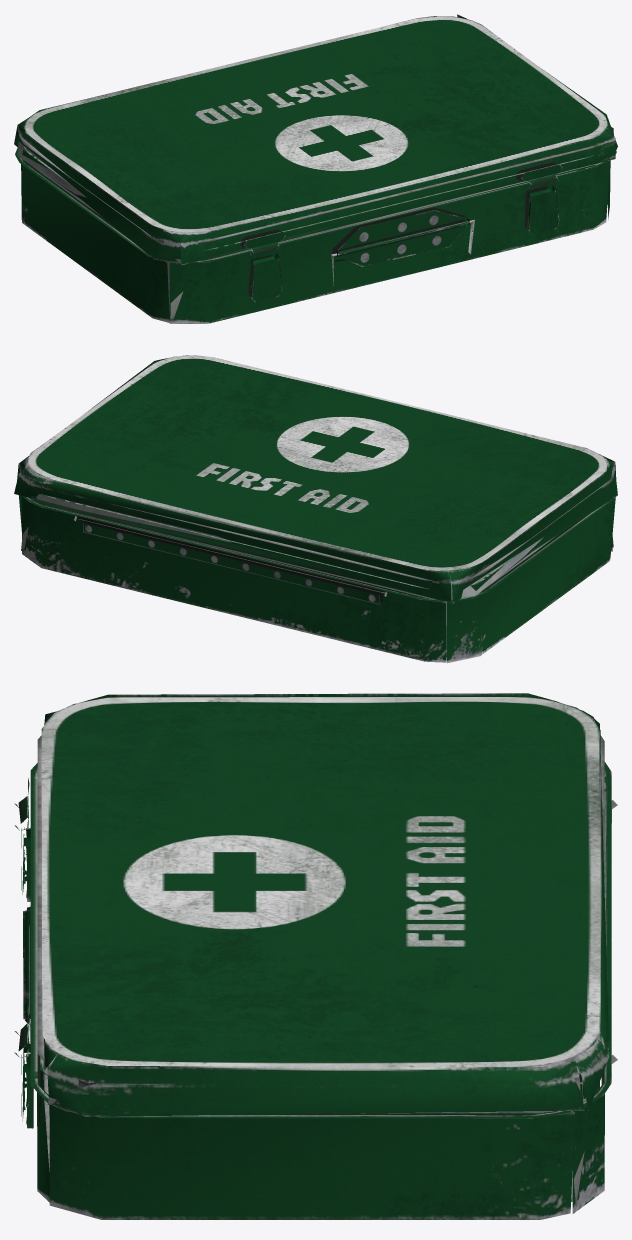
The model's file is medical_box.glb.
3 renders of one model, top to bottom at view 1: azimuth 30°, elevation 25°; view 2: azimuth 150°, elevation 25°; view 3: azimuth 270°, elevation 25°, orthographic. The views are drawn at different scales.
Parts seen in each view (by area): view 1: medical_box_latch; view 2: medical_box_latch; view 3: medical_box_latch.
Part boxes in pixels (x1,y1,x2,y2): medical_box_latch: (14, 14, 617, 323); medical_box_latch: (14, 355, 617, 663); medical_box_latch: (14, 693, 617, 1219).
Size of the model in its own units: 0.5248 by 0.1019 by 0.3507.
1 material, 1 textured.
